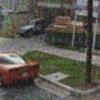cars: (18, 17, 50, 38)
